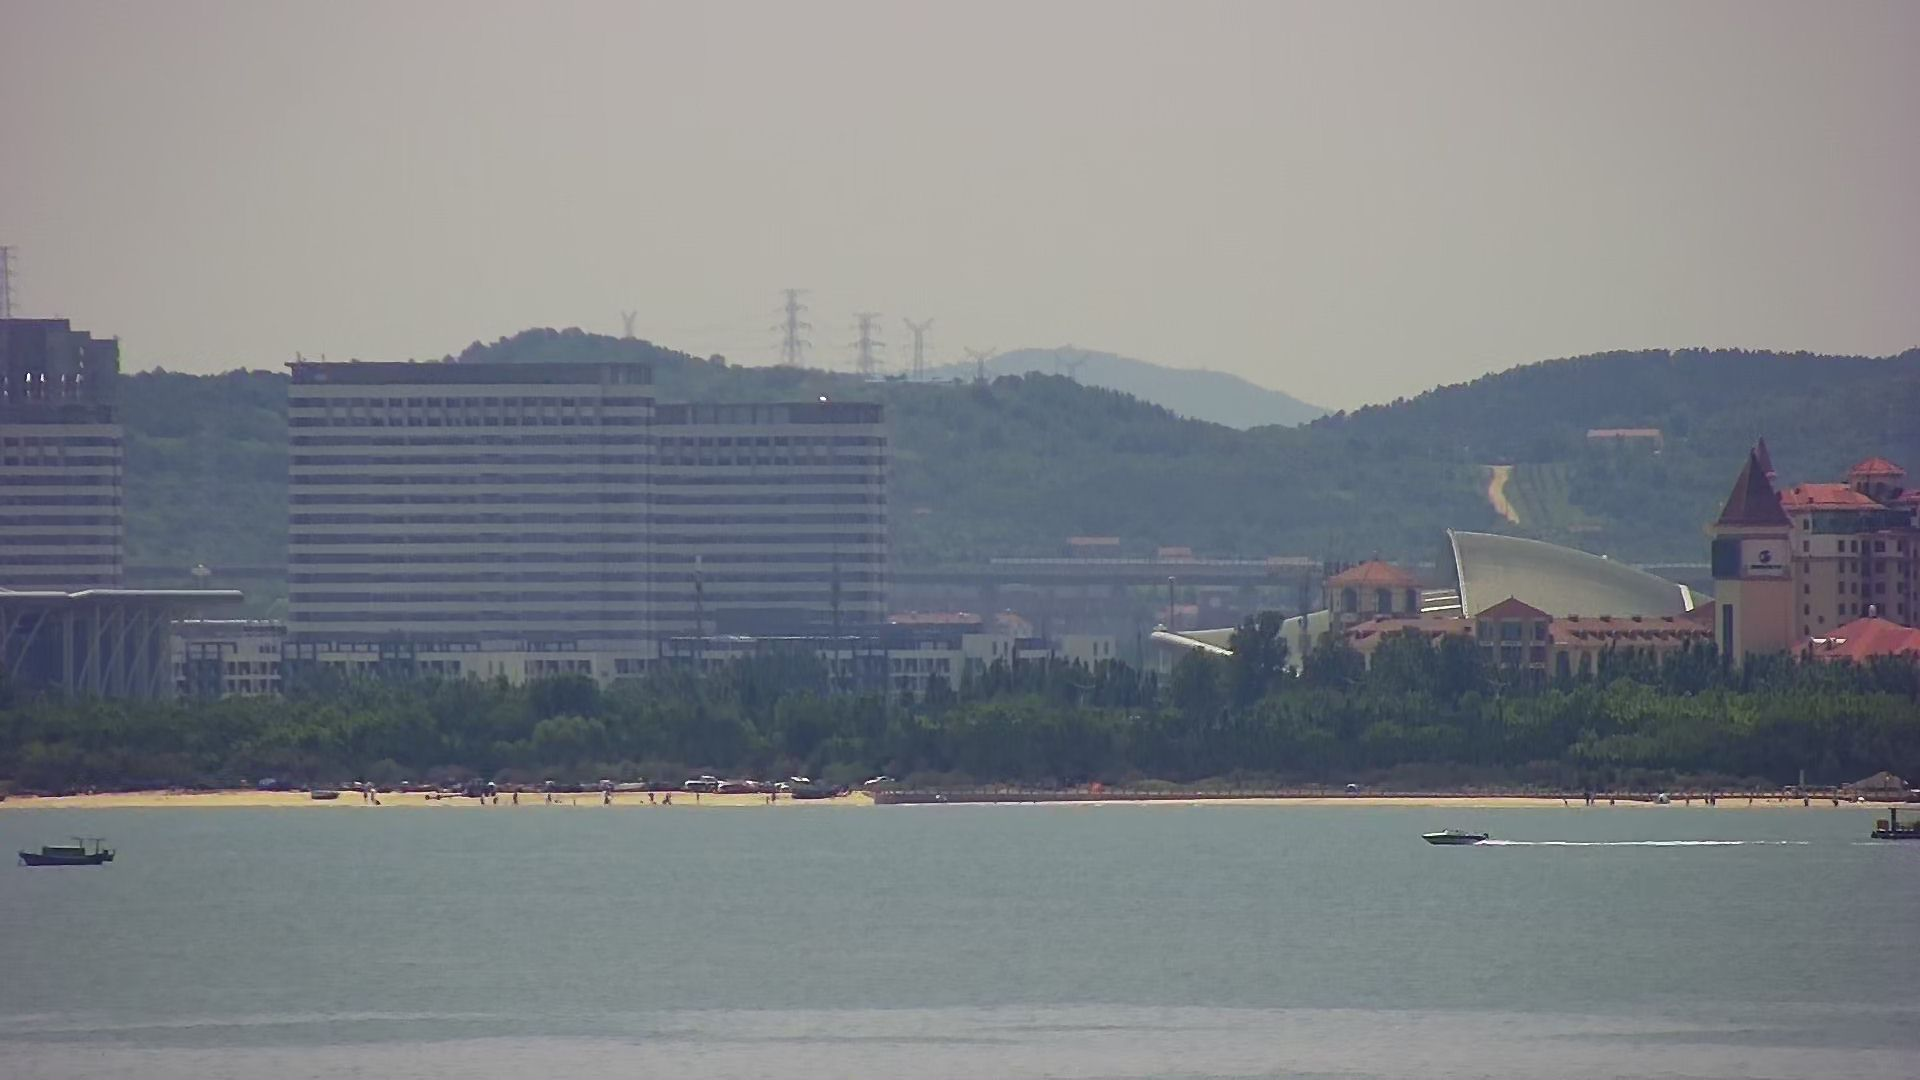boat: (17, 831, 119, 874), (1415, 825, 1495, 851)
platform: (1870, 804, 1920, 845)
